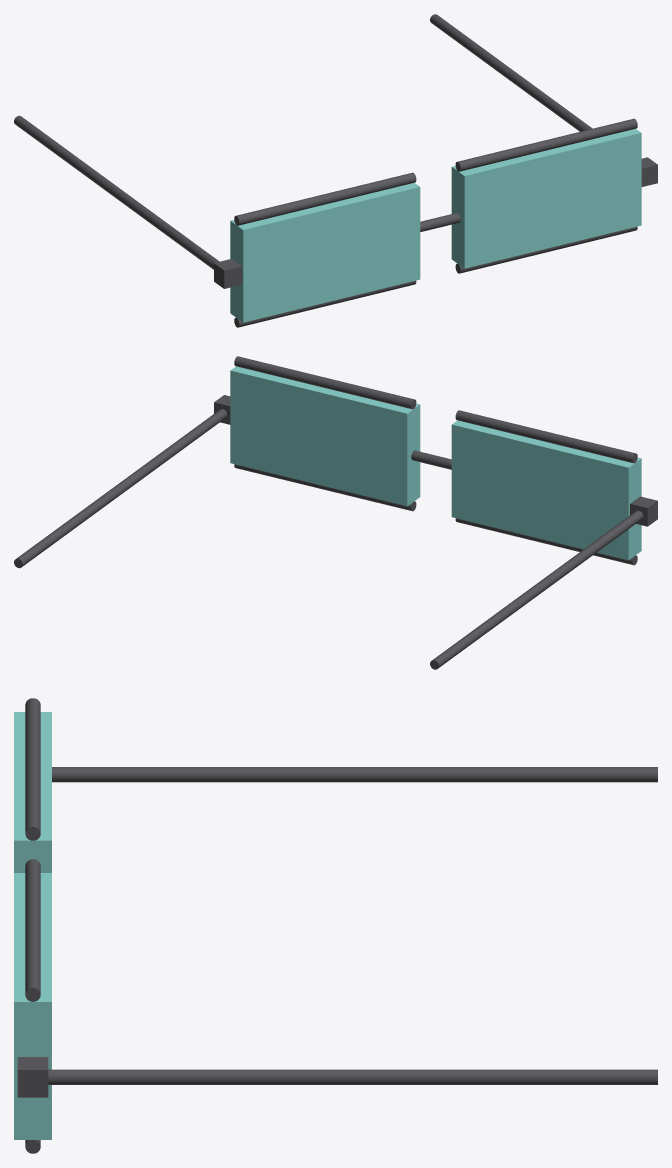
Rendered from glasses.gltf.
3 views of the same model, one above another, from view 1: azimuth 30°, elevation 25°; view 2: azimuth 150°, elevation 25°; view 3: azimuth 270°, elevation 25° (orthographic). The views are drawn at different scales.
Parts seen in each view (by area): view 1: right lens, left lens, left arm, right arm, left top rim, right top rim, right bottom rim, left bottom rim, left hinge; view 2: right lens, left lens, left arm, right arm, left top rim, right top rim, right bottom rim, left bottom rim, left hinge; view 3: right arm, left arm, right lens, left lens, left top rim, right top rim, right hinge.
Boxes of the visible parts, <box> form: right lens: <box>451,128,641,268</box>; left lens: <box>230,182,420,322</box>; left arm: <box>14,115,219,269</box>; right arm: <box>430,14,592,131</box>; left top rim: <box>234,172,416,225</box>; right top rim: <box>455,118,637,171</box>; right bottom rim: <box>455,226,637,273</box>; left bottom rim: <box>234,280,416,327</box>; left hinge: <box>214,259,241,288</box>; right lens: <box>230,366,420,506</box>; left lens: <box>451,420,641,560</box>; left arm: <box>430,510,643,669</box>; right arm: <box>14,409,227,568</box>; left top rim: <box>455,410,637,463</box>; right top rim: <box>234,356,416,409</box>; right bottom rim: <box>234,464,416,511</box>; left bottom rim: <box>455,518,637,565</box>; left hinge: <box>630,496,657,526</box>; right arm: <box>48,1069,657,1084</box>; left arm: <box>52,767,657,782</box>; right lens: <box>14,873,51,1139</box>; left lens: <box>14,712,51,872</box>; left top rim: <box>25,698,40,840</box>; right top rim: <box>25,859,40,1001</box>; right hinge: <box>17,1057,48,1097</box>.
Bounding box in the file's own units: 2.45 × 0.6 × 2.11.
